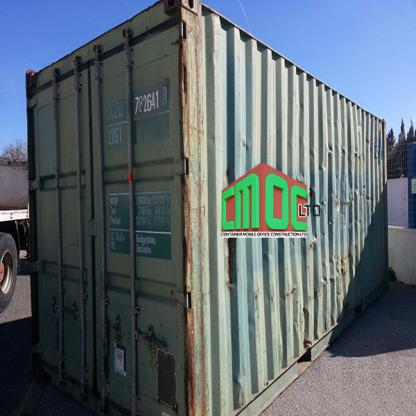Damage: (172, 14, 214, 415), (281, 100, 388, 238), (264, 240, 324, 360), (325, 242, 380, 326), (135, 329, 165, 377), (221, 232, 242, 296), (249, 274, 264, 340), (234, 123, 257, 160), (230, 368, 250, 408), (216, 156, 236, 186)
